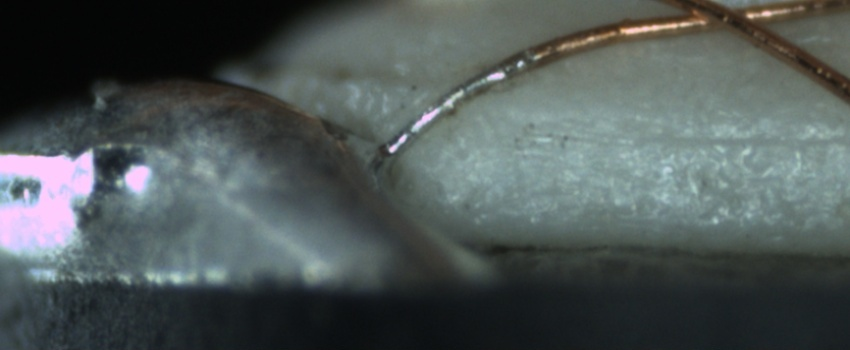CL: (641, 1, 778, 38)
DL: (502, 102, 850, 167)
TS: (382, 49, 536, 160)
TTCW: (387, 24, 610, 158)
